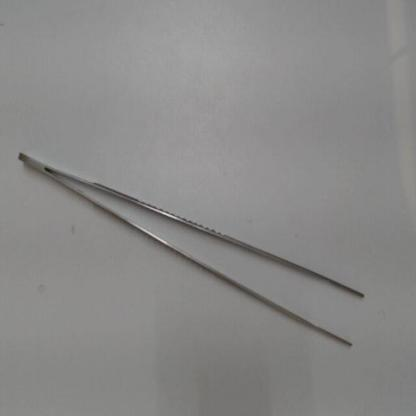DeBakey Dissector: (13, 145, 372, 361)
